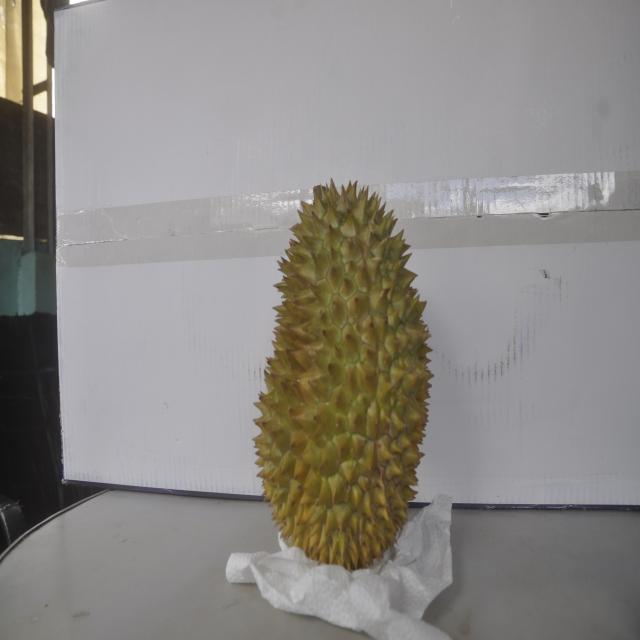mature: (252, 177, 434, 568)
